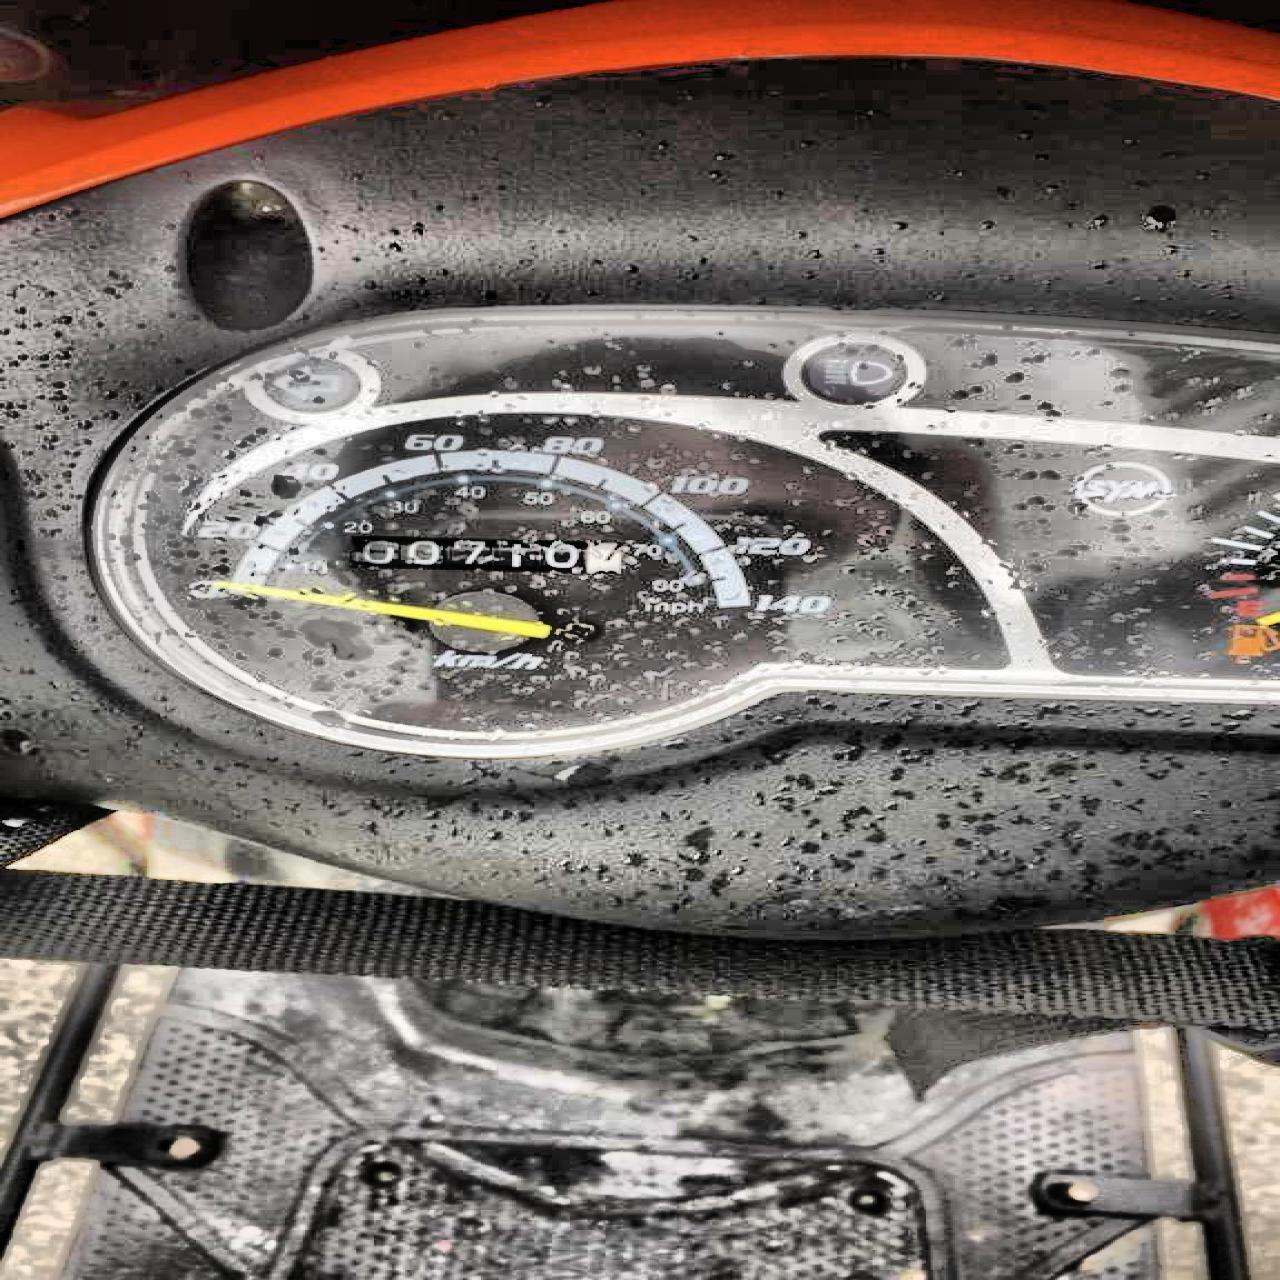0: (542, 538, 581, 572), (403, 538, 438, 567), (356, 538, 396, 564)
1: (503, 539, 530, 568)
7: (450, 535, 485, 565), (590, 538, 619, 560)
odometer: (346, 533, 626, 576)
